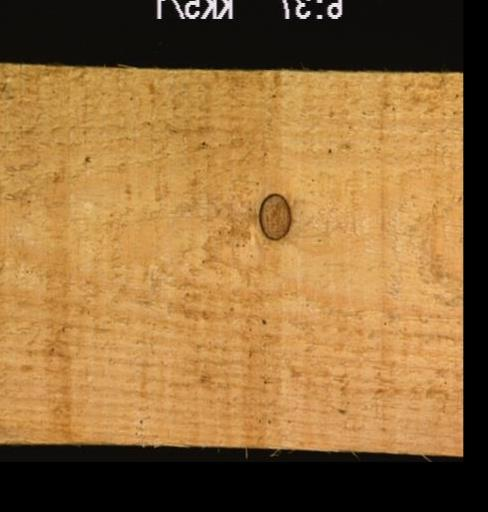dry_knot: (256, 191, 292, 240)
